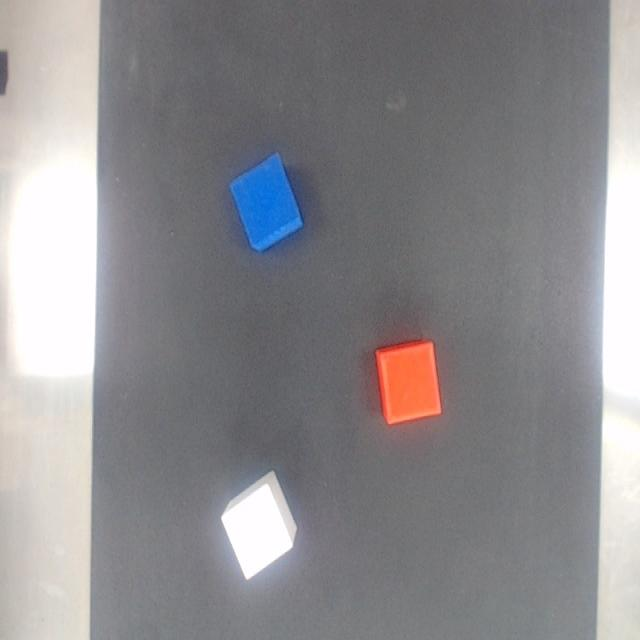Azul: (230, 153, 303, 251)
Blanco: (221, 472, 296, 579)
Rojo: (375, 341, 441, 424)
